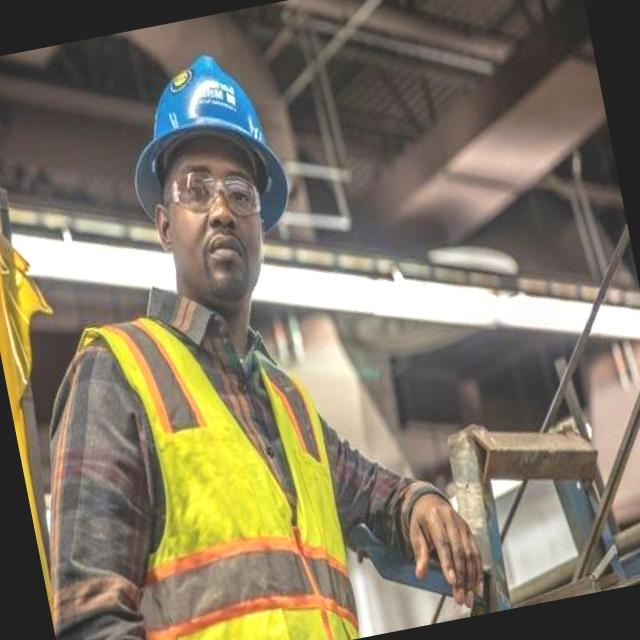helmet: (110, 40, 302, 258)
vest: (81, 290, 362, 640)
